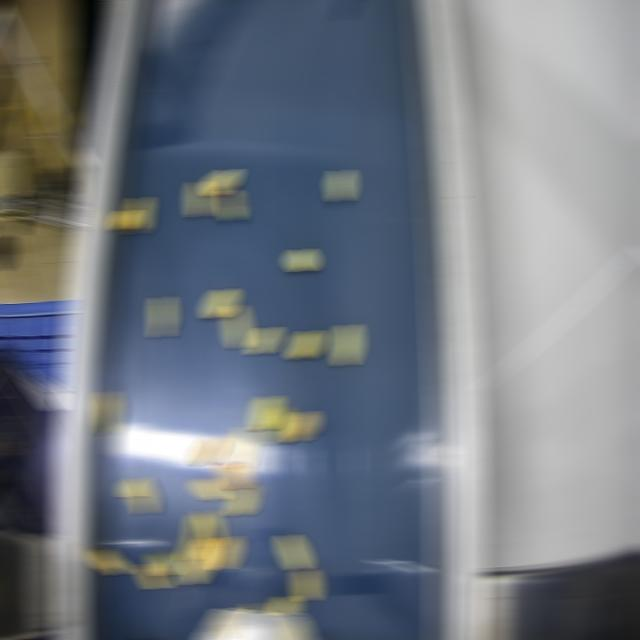Baby Potato: (184, 538, 215, 585), (181, 513, 206, 559), (122, 477, 153, 514), (280, 534, 307, 570), (97, 391, 118, 434), (336, 324, 357, 366), (254, 395, 279, 430), (268, 406, 291, 444), (288, 410, 315, 442), (92, 549, 125, 575), (218, 462, 249, 489), (228, 304, 247, 348), (213, 536, 238, 569), (292, 329, 319, 359), (207, 288, 234, 318), (230, 484, 255, 516), (234, 425, 253, 467), (206, 168, 235, 195), (195, 436, 222, 465), (199, 510, 220, 547), (252, 326, 277, 355), (128, 196, 147, 234), (194, 478, 225, 501), (154, 296, 171, 337), (190, 181, 209, 217), (296, 569, 317, 601), (141, 563, 166, 589), (150, 551, 177, 575), (331, 169, 350, 201), (289, 248, 314, 272), (222, 190, 241, 221), (271, 595, 296, 614), (115, 209, 136, 230), (246, 601, 263, 612)
